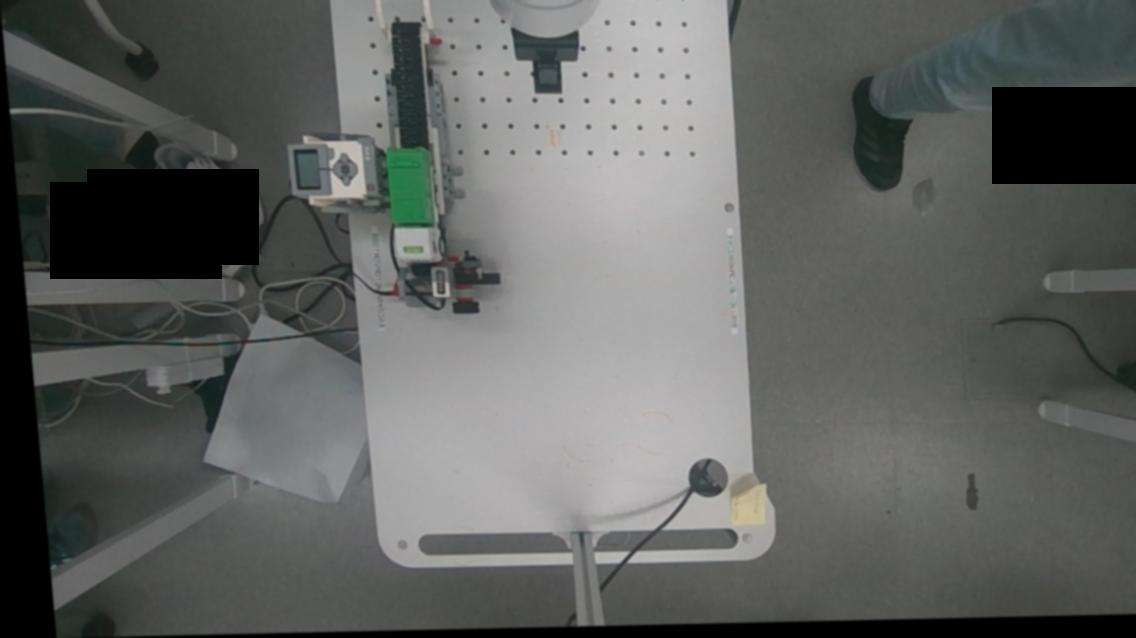truck: (379, 140, 448, 265)
